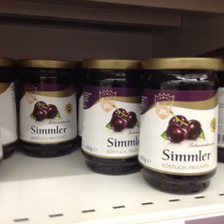jam: (138, 57, 223, 195), (81, 58, 142, 176), (18, 60, 79, 158)
